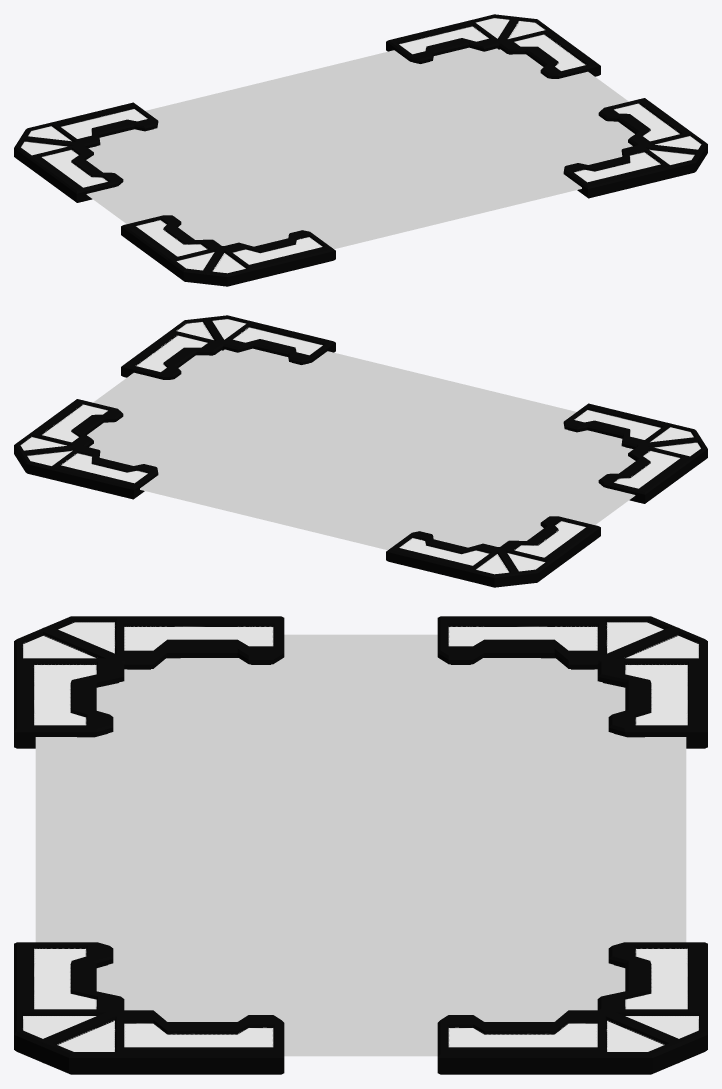
The model's file is Shield.fbx.
3 views of the same model, one above another, from view 1: azimuth 30°, elevation 25°; view 2: azimuth 150°, elevation 25°; view 3: azimuth 270°, elevation 25° (orthographic). The views are drawn at different scales.
Visible parts, largest first — view 1: Plane, Brackets; view 2: Plane, Brackets; view 3: Plane, Brackets.
Boxes of the visible parts, <box> form: Plane: <box>86,47,634,249</box>; Brackets: <box>14,14,707,286</box>; Plane: <box>87,348,635,550</box>; Brackets: <box>14,315,707,587</box>; Plane: <box>35,634,686,1056</box>; Brackets: <box>14,616,707,1074</box>.
Bounding box in the file's own units: 1294 × 27.97 × 862.
Materials: 1 (1 with a texture image).
